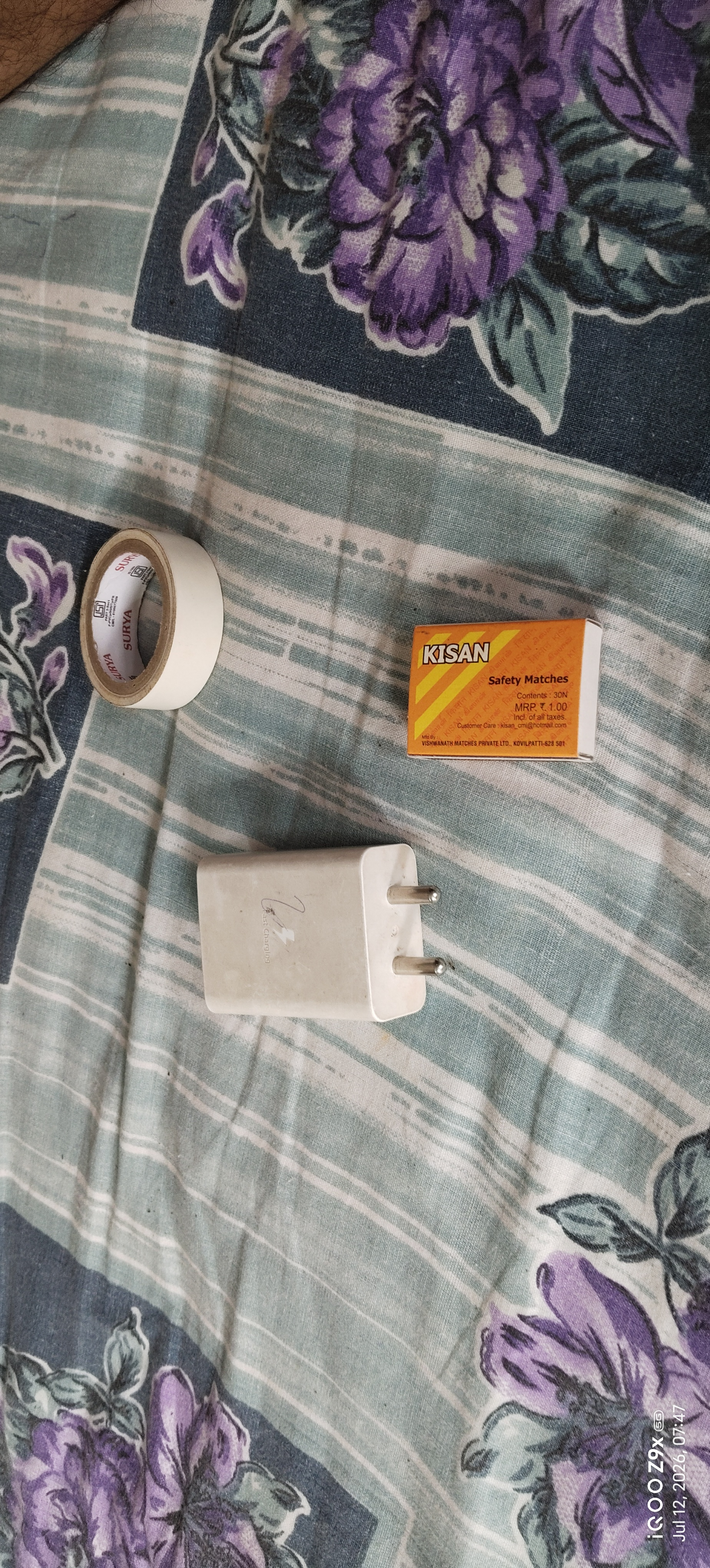charger: (180, 840, 475, 1028)
matchbox: (400, 609, 611, 776)
tape_roll: (70, 513, 240, 729)
